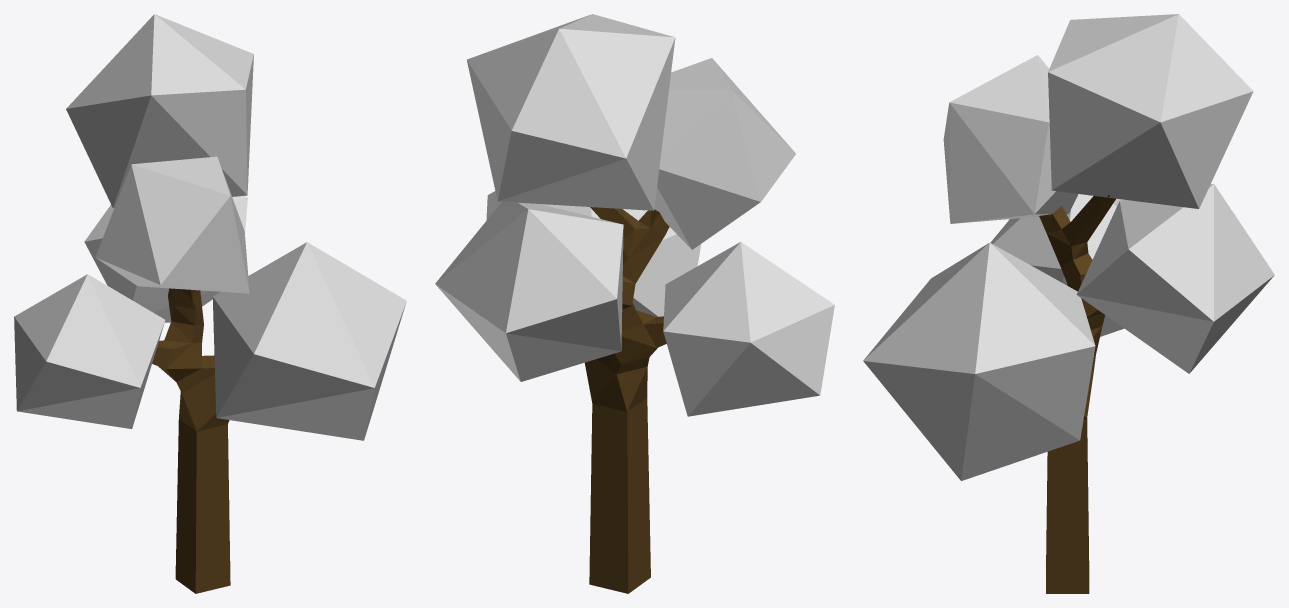
File: Tree1.gltf
The picture shows the model from 3 angles, left to right: view 1: azimuth 30°, elevation 25°; view 2: azimuth 150°, elevation 25°; view 3: azimuth 270°, elevation 25°; orthographic projection. The views are drawn at different scales.
Parts seen in each view (by area): view 1: Icosphere.009, Icosphere.006, Icosphere.008, Icosphere.007, Plane.001, Icosphere.005; view 2: Icosphere.006, Icosphere.005, Icosphere.008, Plane.001, Icosphere.007, Icosphere.009; view 3: Icosphere.009, Icosphere.006, Icosphere.005, Icosphere.007, Plane.001, Icosphere.008.
Boxes of the visible parts, x1,y1,x2,y2 form: Icosphere.009: (212, 242, 406, 440); Icosphere.006: (66, 14, 253, 208); Icosphere.008: (14, 274, 165, 428); Icosphere.007: (95, 156, 249, 293); Plane.001: (152, 288, 230, 593); Icosphere.005: (84, 196, 247, 322); Icosphere.006: (467, 14, 675, 210); Icosphere.005: (435, 201, 623, 381); Icosphere.008: (663, 242, 834, 416); Plane.001: (584, 207, 669, 593); Icosphere.007: (654, 58, 795, 249); Icosphere.009: (486, 191, 701, 316); Icosphere.009: (863, 242, 1095, 480); Icosphere.006: (1048, 14, 1253, 208); Icosphere.005: (1076, 184, 1274, 373); Icosphere.007: (943, 55, 1078, 223); Plane.001: (1039, 194, 1115, 593); Icosphere.008: (990, 194, 1124, 336).
Bounding box in the file's own units: 4.92 × 7.26 × 4.74.
